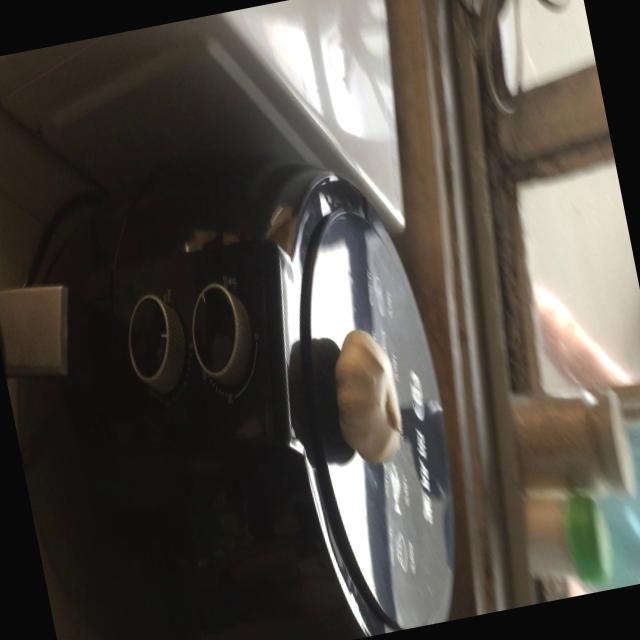garlic: (316, 314, 416, 482)
